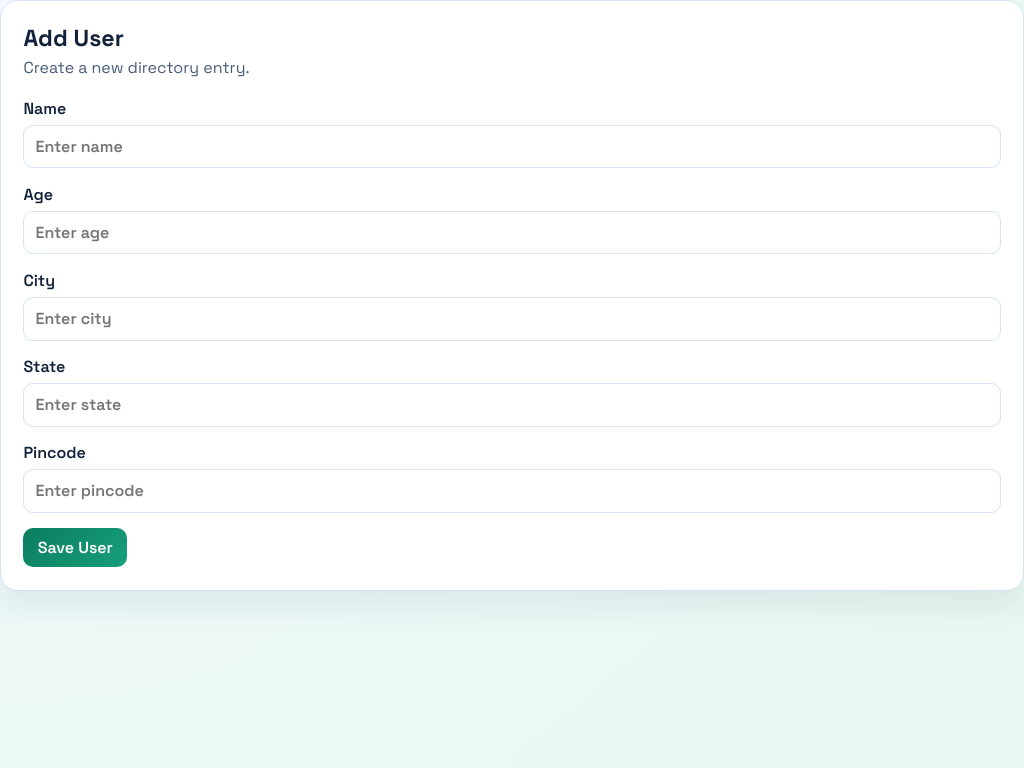
AddUserPage › shows inline validation errors when submitting empty form
Click the button "Save User": coordinates (75, 548) [23,528,127,567]
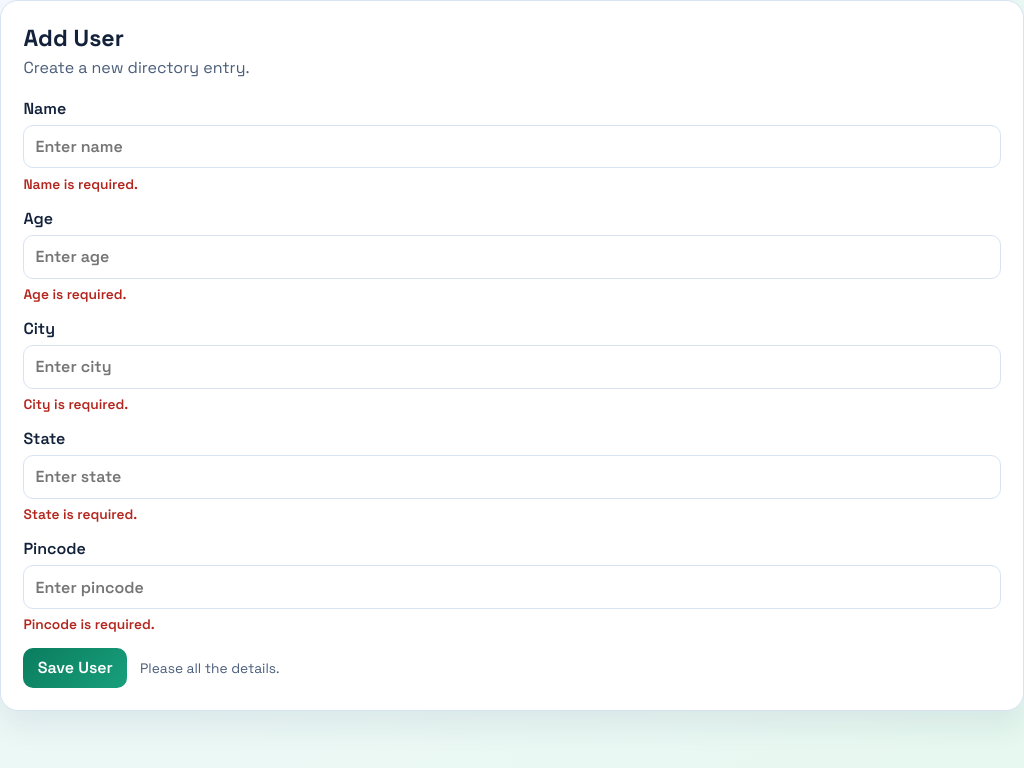
Expected: the text "Name is required." is shown, [23,174,138,192]
Expected: the text "Age is required." is shown, [23,285,126,303]
Expected: the text "City is required." is shown, [23,395,128,413]
